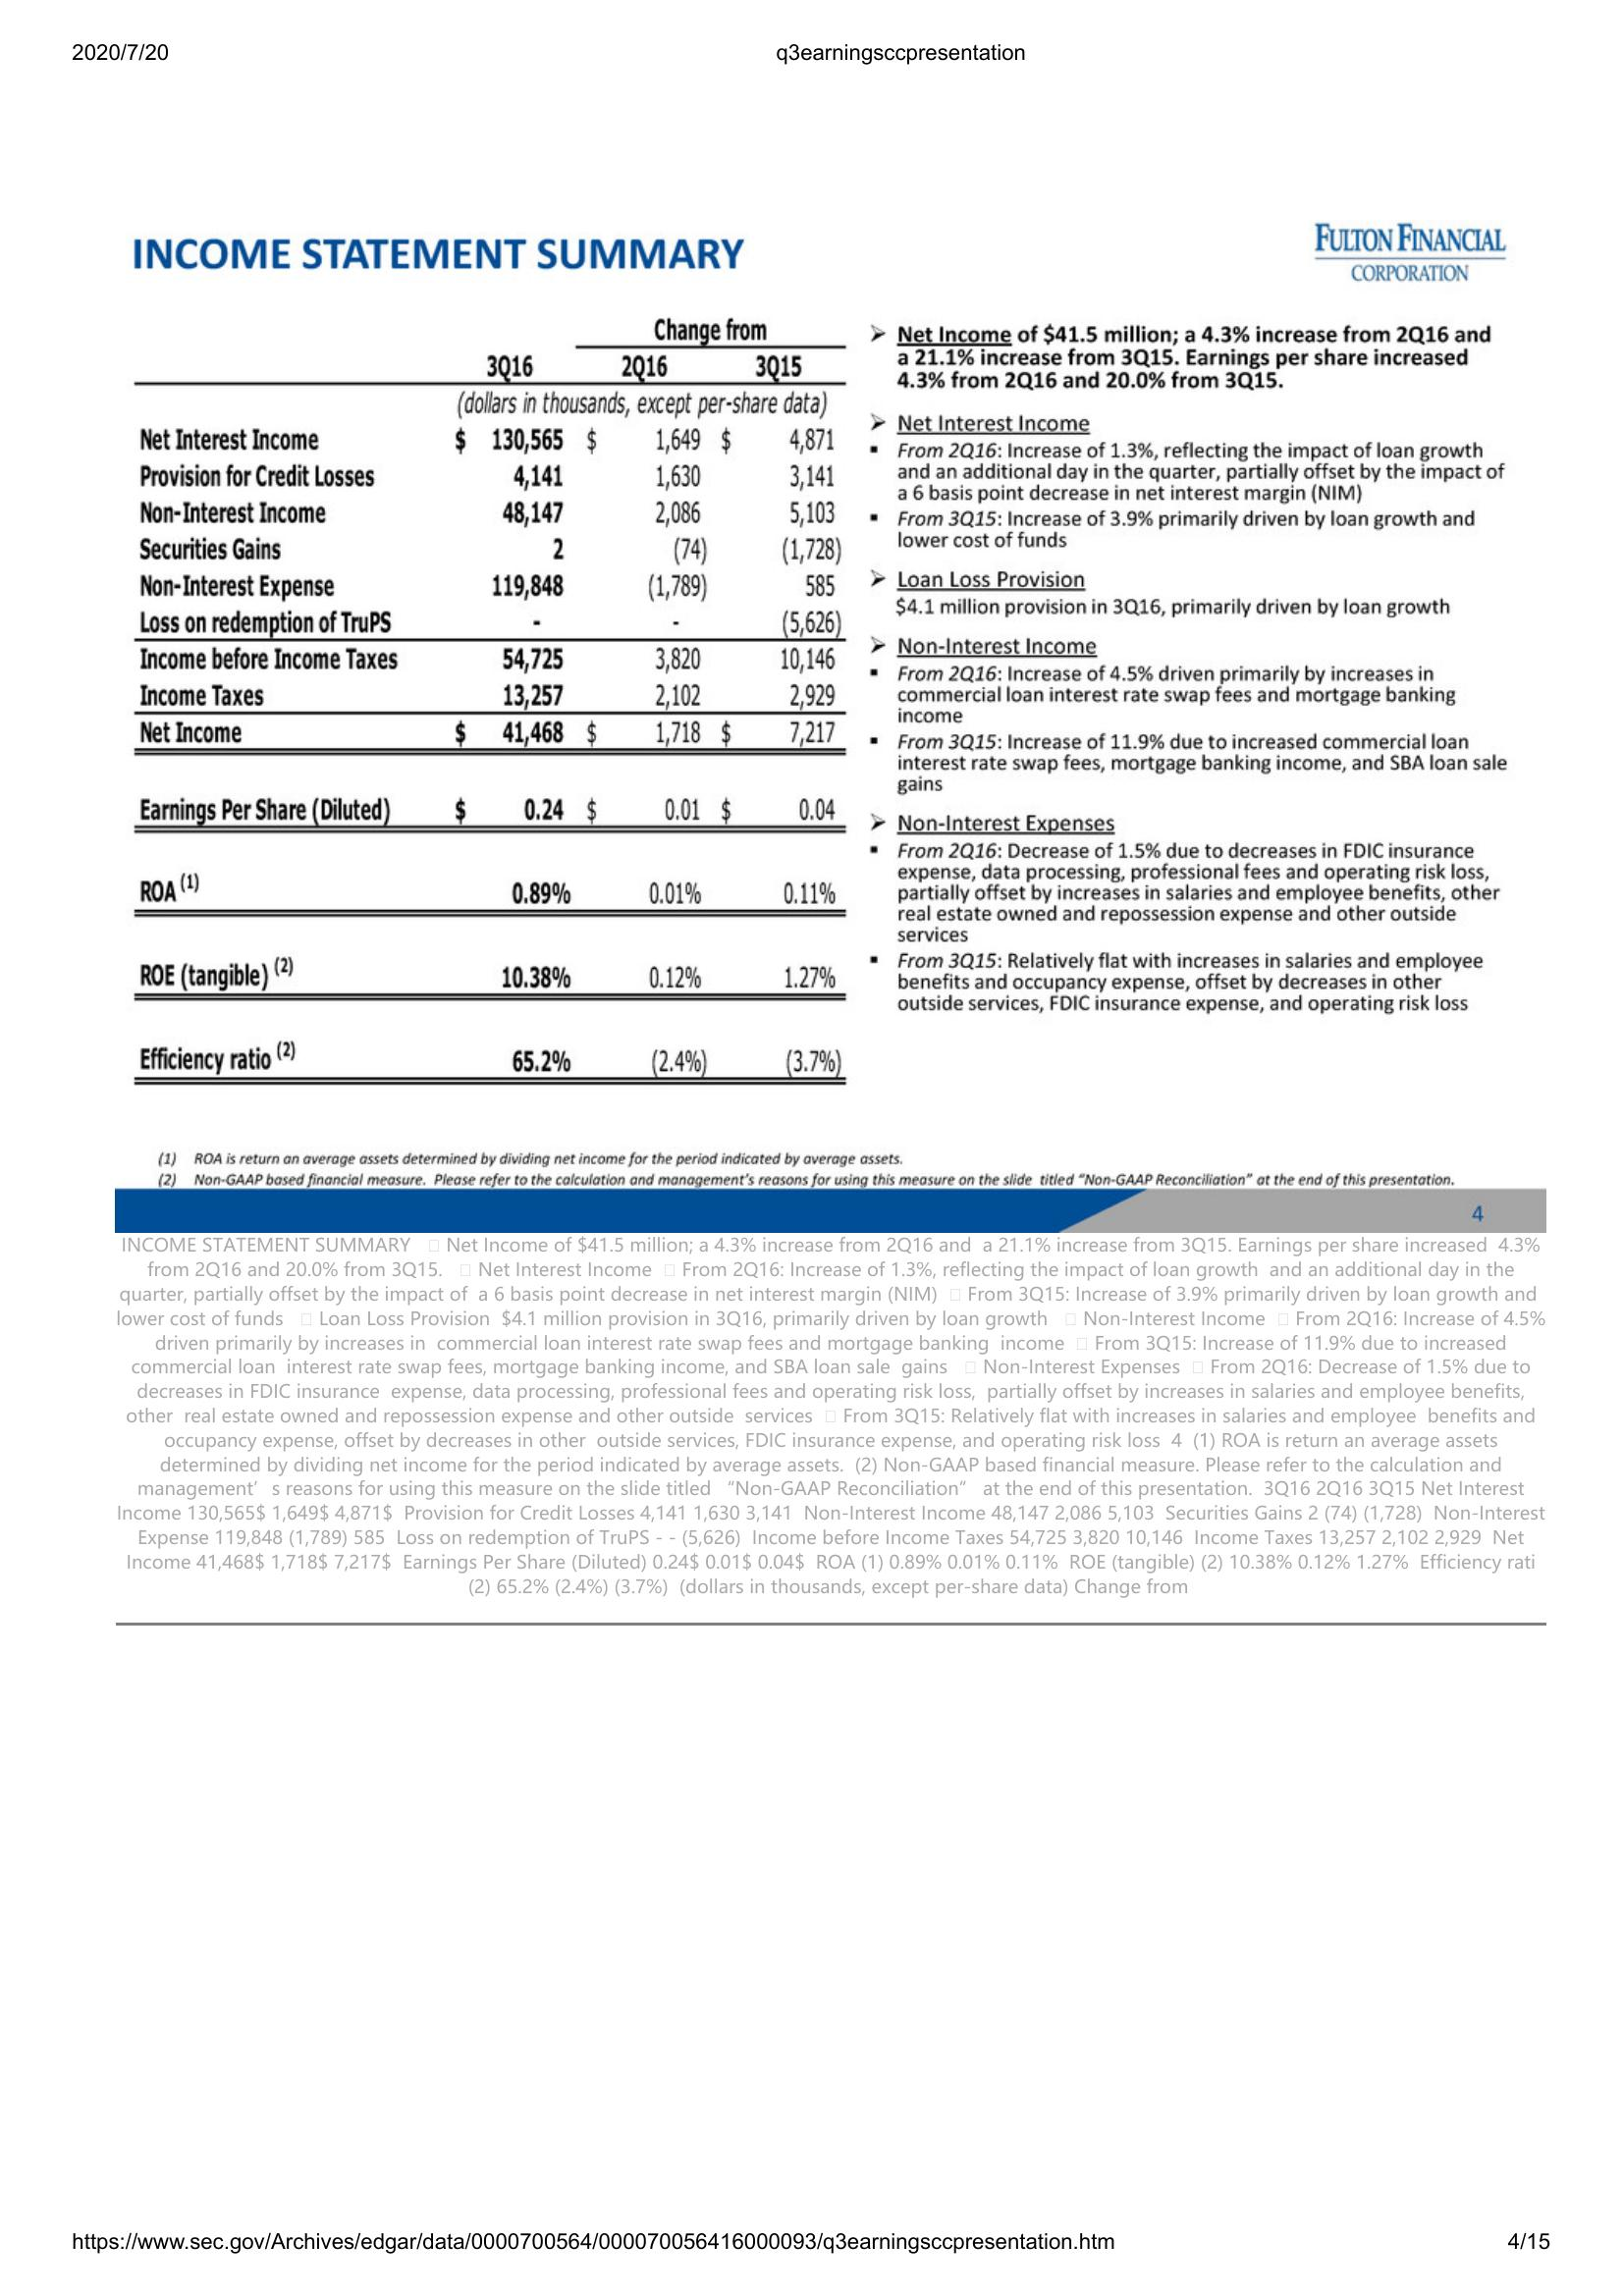table: (130, 319, 852, 1090)
